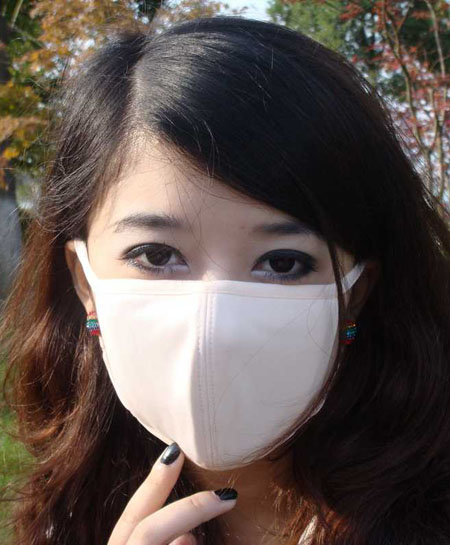face_mask: (97, 131, 346, 479)
